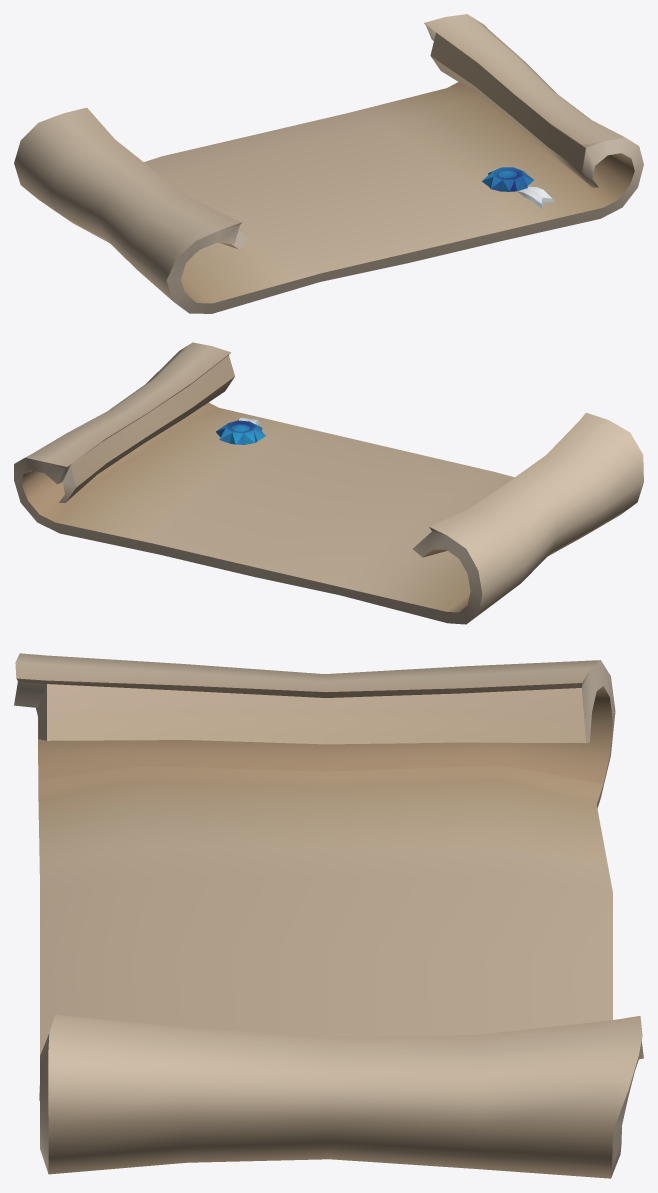
Rendered from tr_map_blank.glb.
The picture shows the model from 3 angles, top to bottom: view 1: azimuth 30°, elevation 25°; view 2: azimuth 150°, elevation 25°; view 3: azimuth 270°, elevation 25°; orthographic projection. The views are drawn at different scales.
Visible parts, largest first — view 1: model; view 2: model; view 3: model.
Part boxes in pixels (x1,y1,x2,y2): model: [14, 14, 643, 313]; model: [14, 342, 643, 624]; model: [14, 653, 643, 1178].
Bounding box in the file's own units: 0.5816 × 0.1064 × 0.3652.
Materials: 2 (2 with a texture image).
